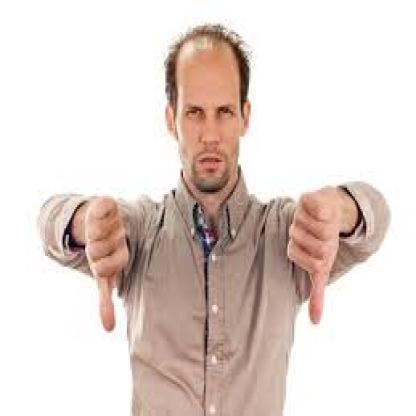thumb_down: (284, 186, 342, 328), (80, 188, 131, 332)
